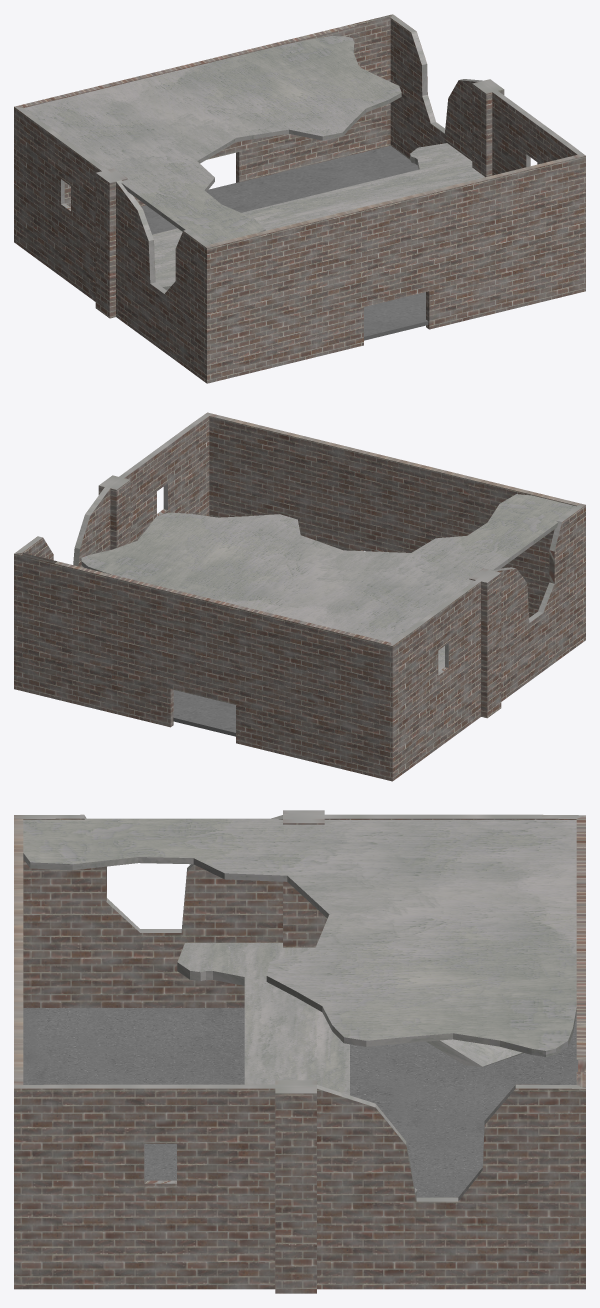
The model's file is building1.fbx.
The picture shows the model from 3 angles, top to bottom: view 1: azimuth 30°, elevation 25°; view 2: azimuth 150°, elevation 25°; view 3: azimuth 270°, elevation 25°; orthographic projection. The views are drawn at different scales.
Visible parts, largest first — view 1: walls, roof, floor, second floor; view 2: walls, roof, floor; view 3: walls, roof, floor, second floor.
Part boxes in pixels (bbox=[...]): walls: bbox=[14, 14, 585, 383]; roof: bbox=[23, 36, 401, 244]; floor: bbox=[141, 145, 428, 340]; second floor: bbox=[152, 143, 484, 290]; walls: bbox=[14, 412, 585, 781]; roof: bbox=[81, 494, 576, 642]; floor: bbox=[173, 690, 235, 736]; walls: bbox=[14, 810, 585, 1293]; roof: bbox=[23, 818, 576, 1056]; floor: bbox=[23, 1008, 577, 1197]; second floor: bbox=[177, 943, 523, 1197].
Bounding box in the file's own units: 3197 × 1058 × 2732.
